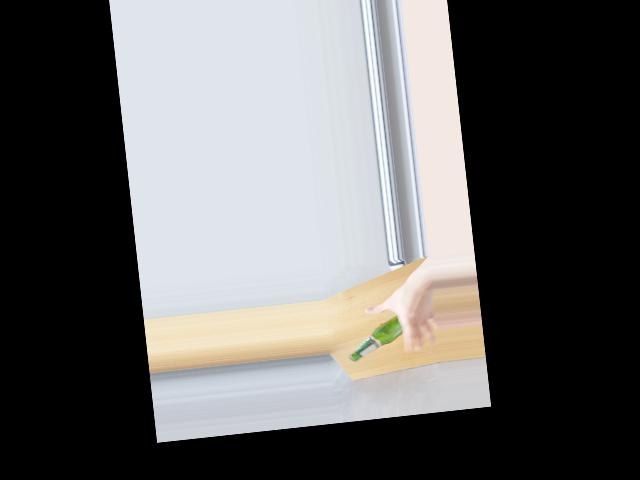beer: (344, 314, 405, 362)
